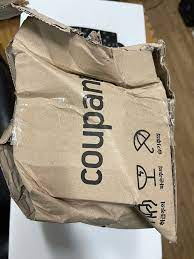damaged package: (5, 132, 43, 224), (93, 203, 166, 240), (69, 23, 134, 53), (148, 45, 171, 101)
